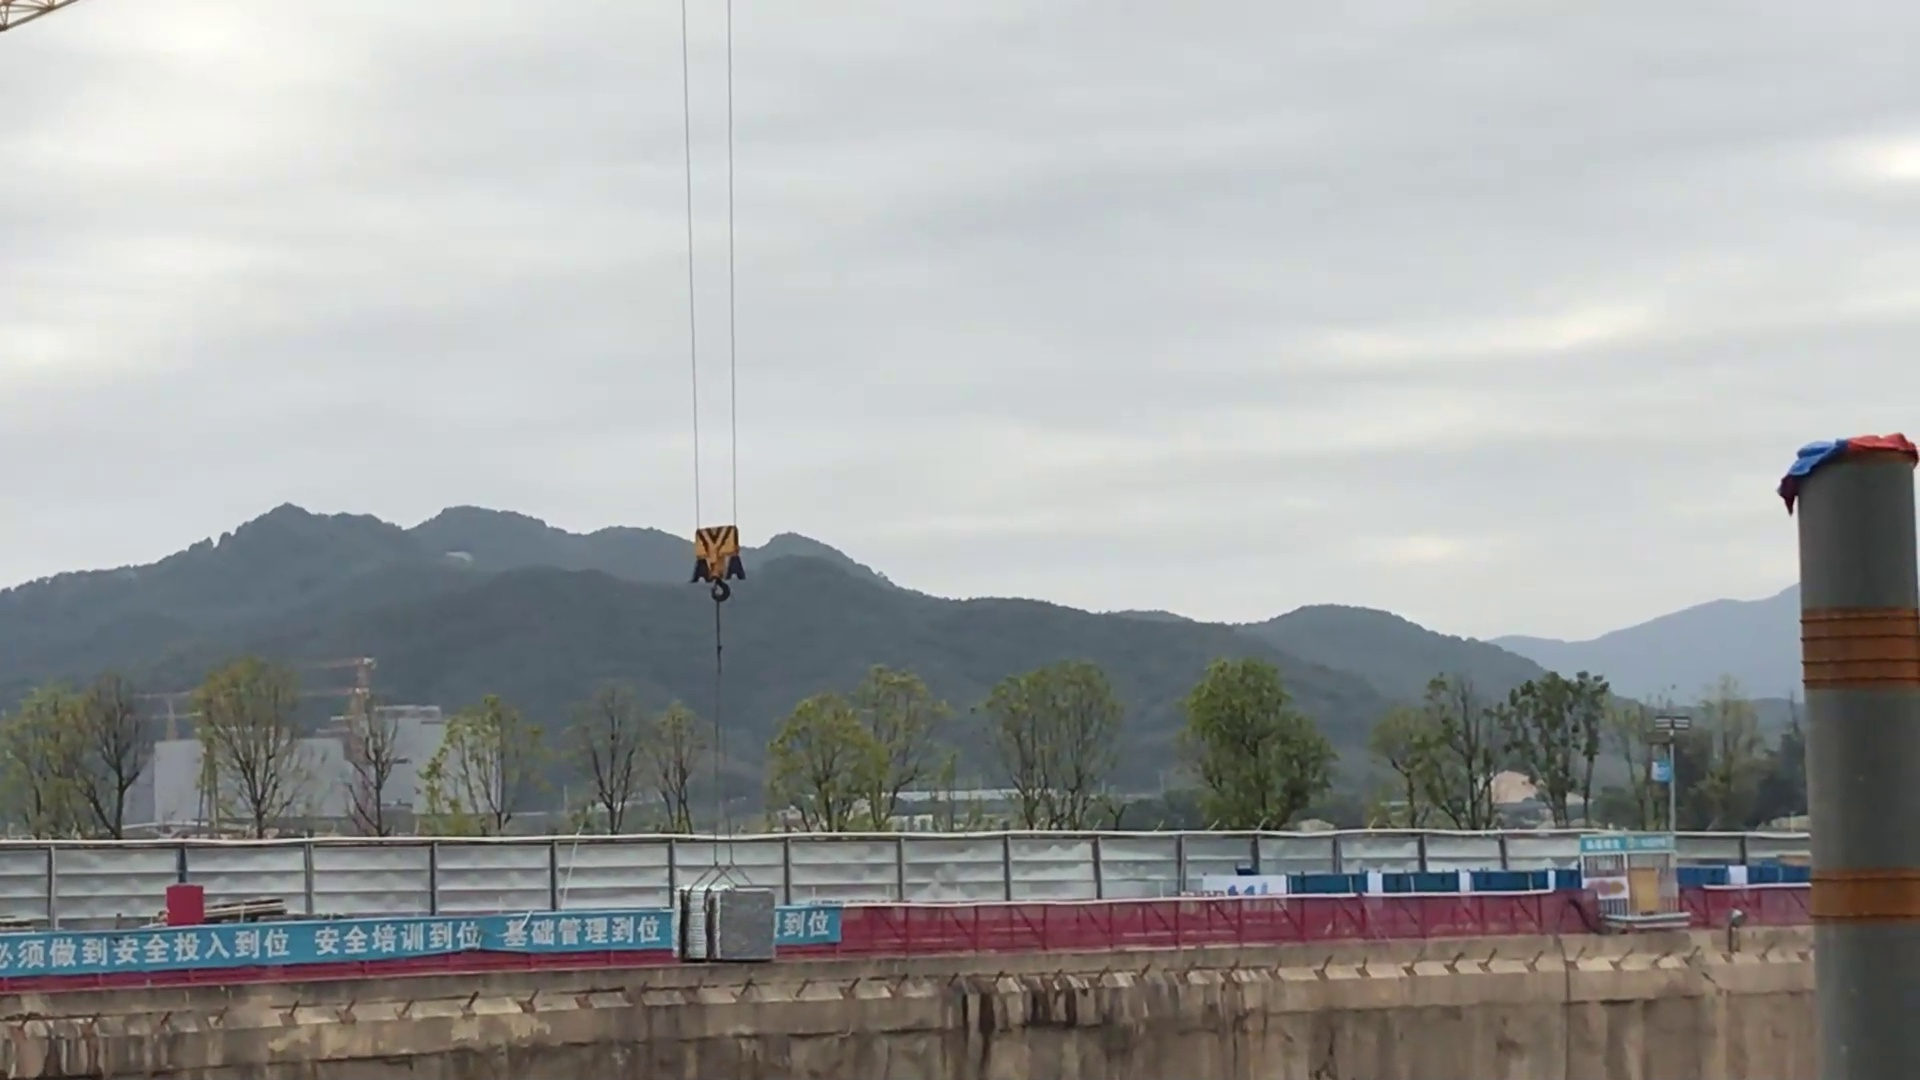hook: (684, 517, 753, 607)
slogan: (13, 891, 847, 990)
